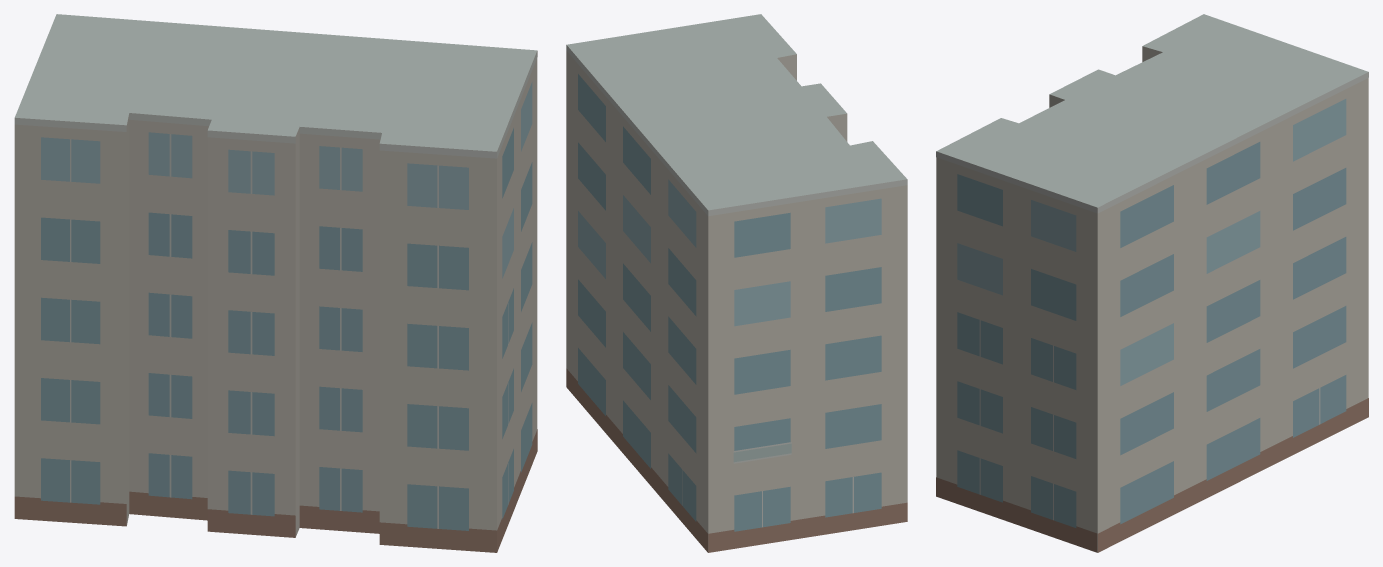
The model's file is survey-upis-32804813.glb.
The picture shows the model from 3 angles, left to right: view 1: azimuth 30°, elevation 25°; view 2: azimuth 150°, elevation 25°; view 3: azimuth 270°, elevation 25°; orthographic projection. The views are drawn at different scales.
Visible parts, largest first — view 1: survey-upis-32804813.tmp; view 2: survey-upis-32804813.tmp; view 3: survey-upis-32804813.tmp.
Boxes of the visible parts, x1,y1,x2,y2 form: survey-upis-32804813.tmp: [14, 14, 537, 552]; survey-upis-32804813.tmp: [566, 14, 907, 552]; survey-upis-32804813.tmp: [936, 14, 1368, 552].
Size of the model in its own units: 17.21 by 14.3 by 16.24.
